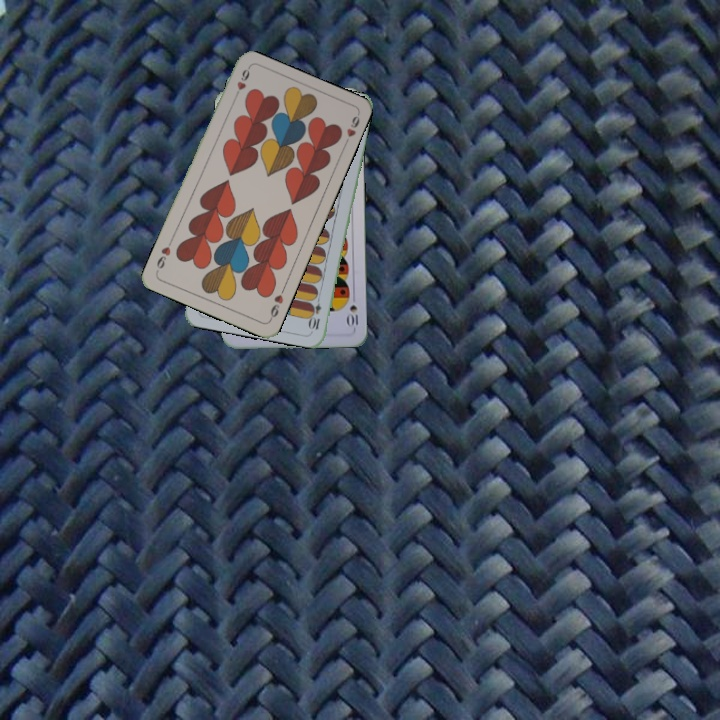E10: (307, 292, 324, 332)
H9: (265, 284, 287, 323), (230, 65, 252, 103)
S10: (344, 290, 361, 330)
